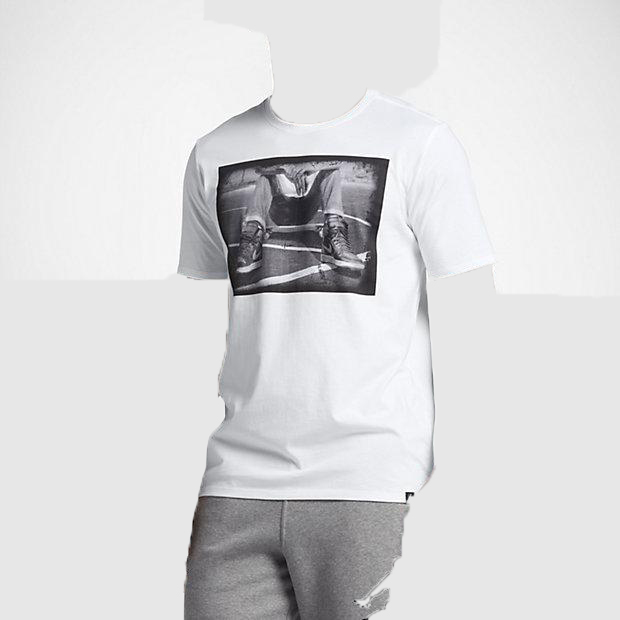teeshirt: (164, 90, 497, 505)
